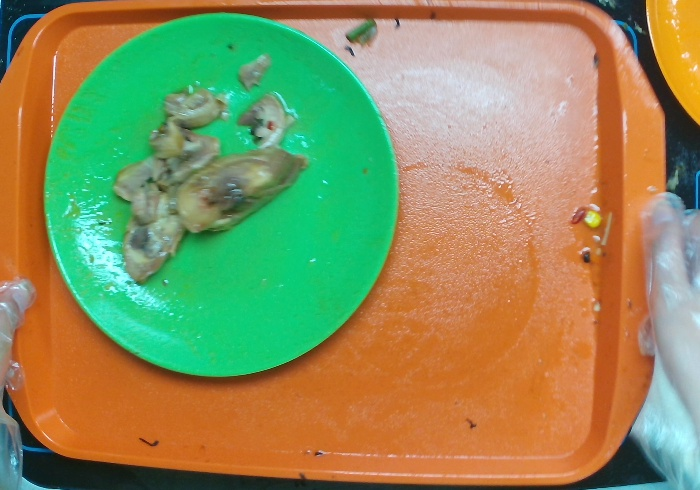HZYJPL-Lv_Se_Yuan_Pan: (36, 7, 405, 377)
